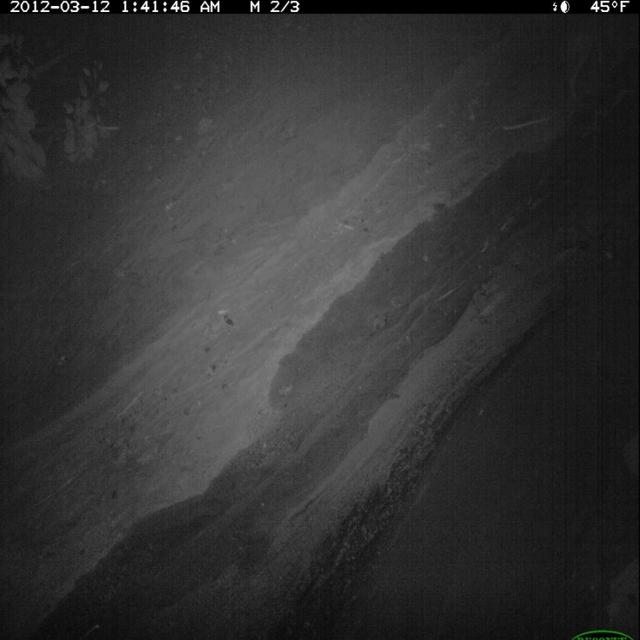coyote: (552, 15, 639, 117)
